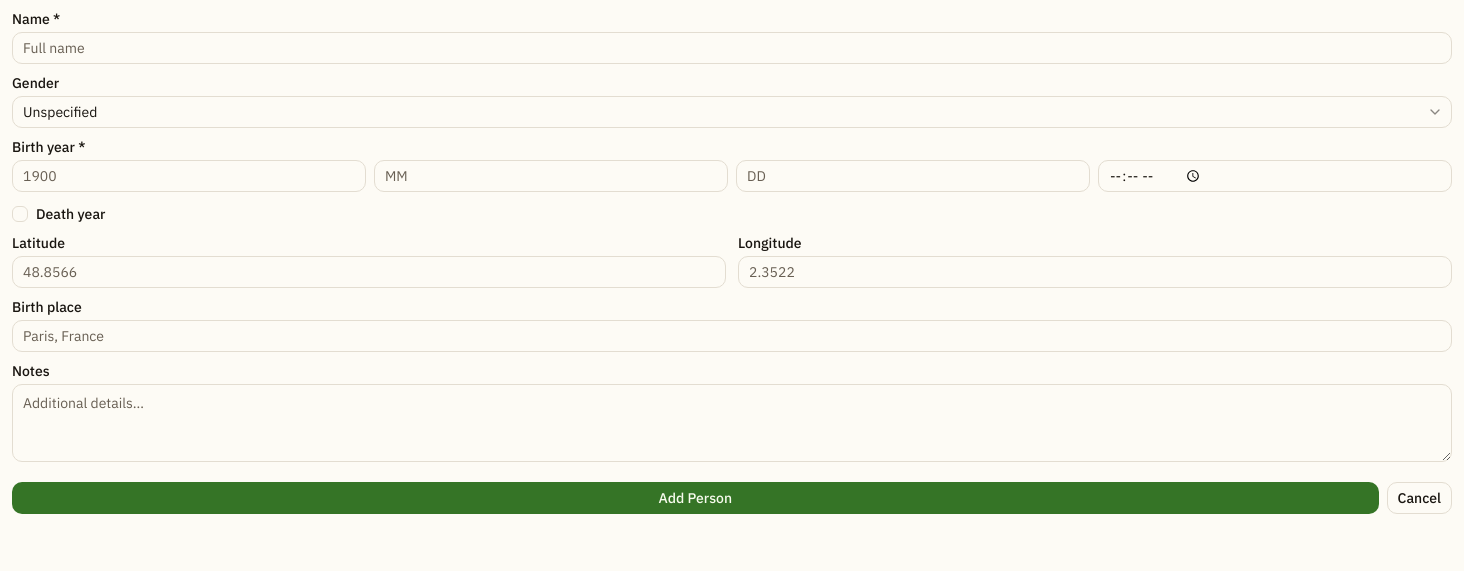
Test: PersonForm › shows "Name is required" error on empty submit
Click the button "Add Person": [695, 498] box 12,482 -> 1378,514
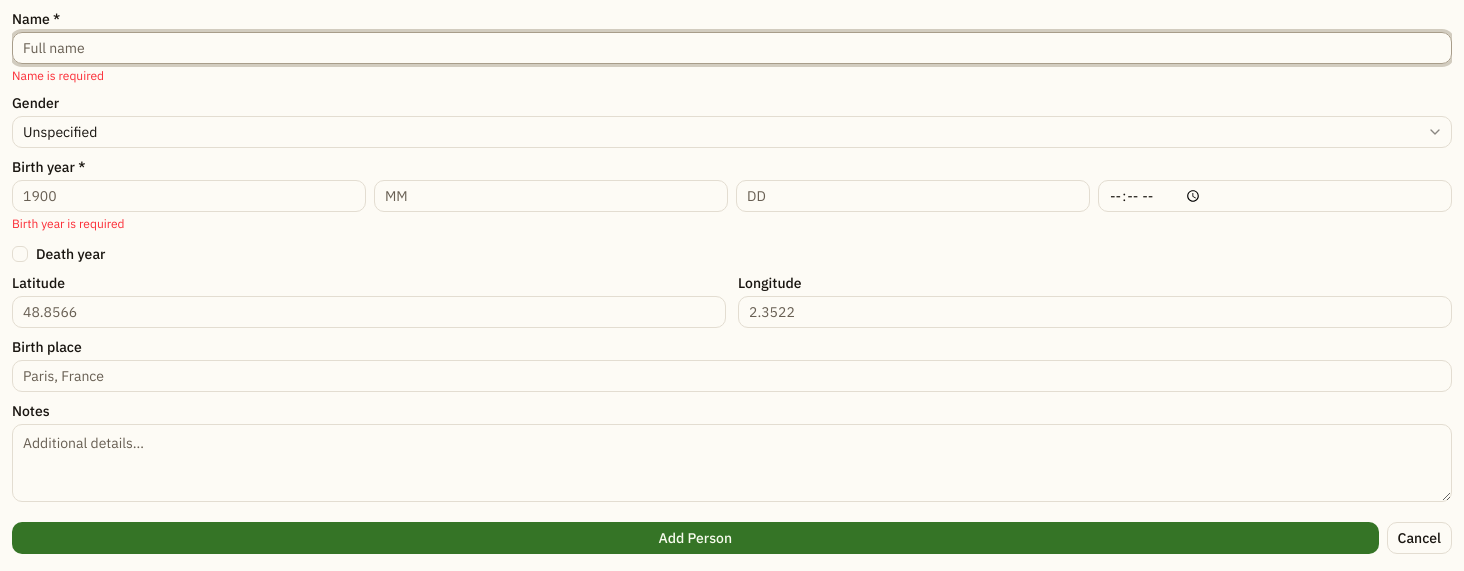
Check: the text "Name is required" is shown, box 12,68 -> 104,83
